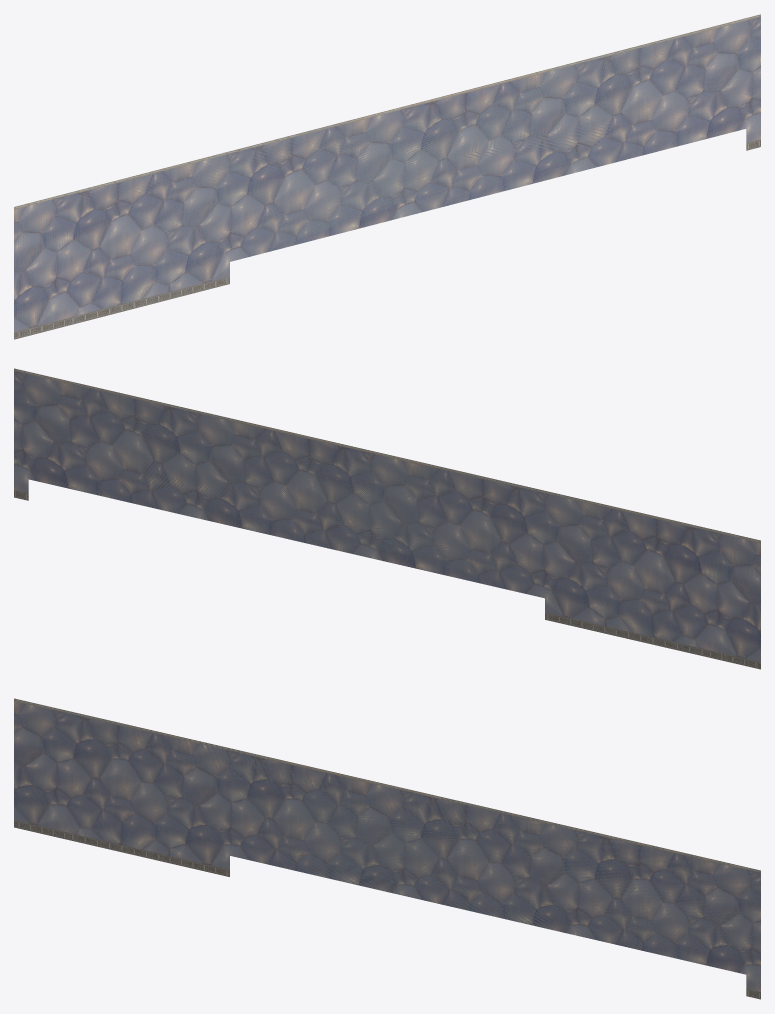
Rendered from 水立方4.dae.
The picture shows the model from 3 angles, top to bottom: view 1: azimuth 30°, elevation 25°; view 2: azimuth 150°, elevation 25°; view 3: azimuth 330°, elevation 25°; orthographic projection. The views are drawn at different scales.
Visible parts, largest first — view 1: SketchUp; view 2: SketchUp; view 3: SketchUp.
Part boxes in pixels (box(x1,y1,x2,y2)): SketchUp: box(14, 14, 760, 339); SketchUp: box(14, 368, 760, 669); SketchUp: box(14, 698, 760, 999).
Bounding box in the file's own units: 6898 × 169 × 1155.
